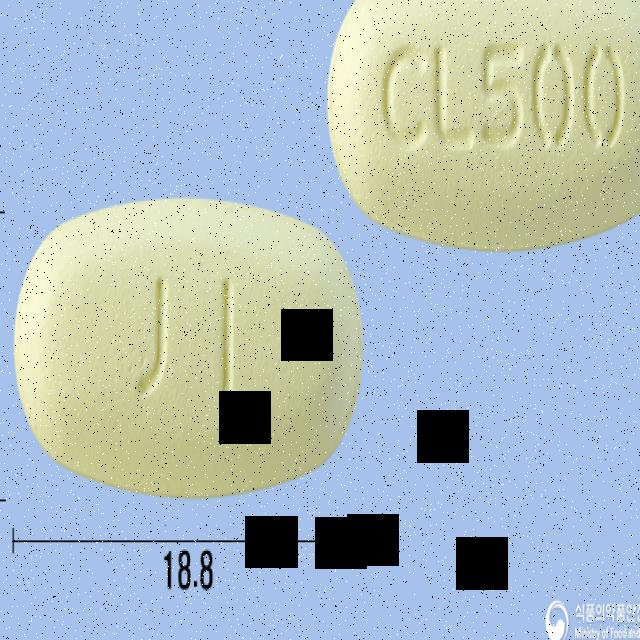Jecli: (14, 192, 362, 497), (328, 0, 640, 249)
